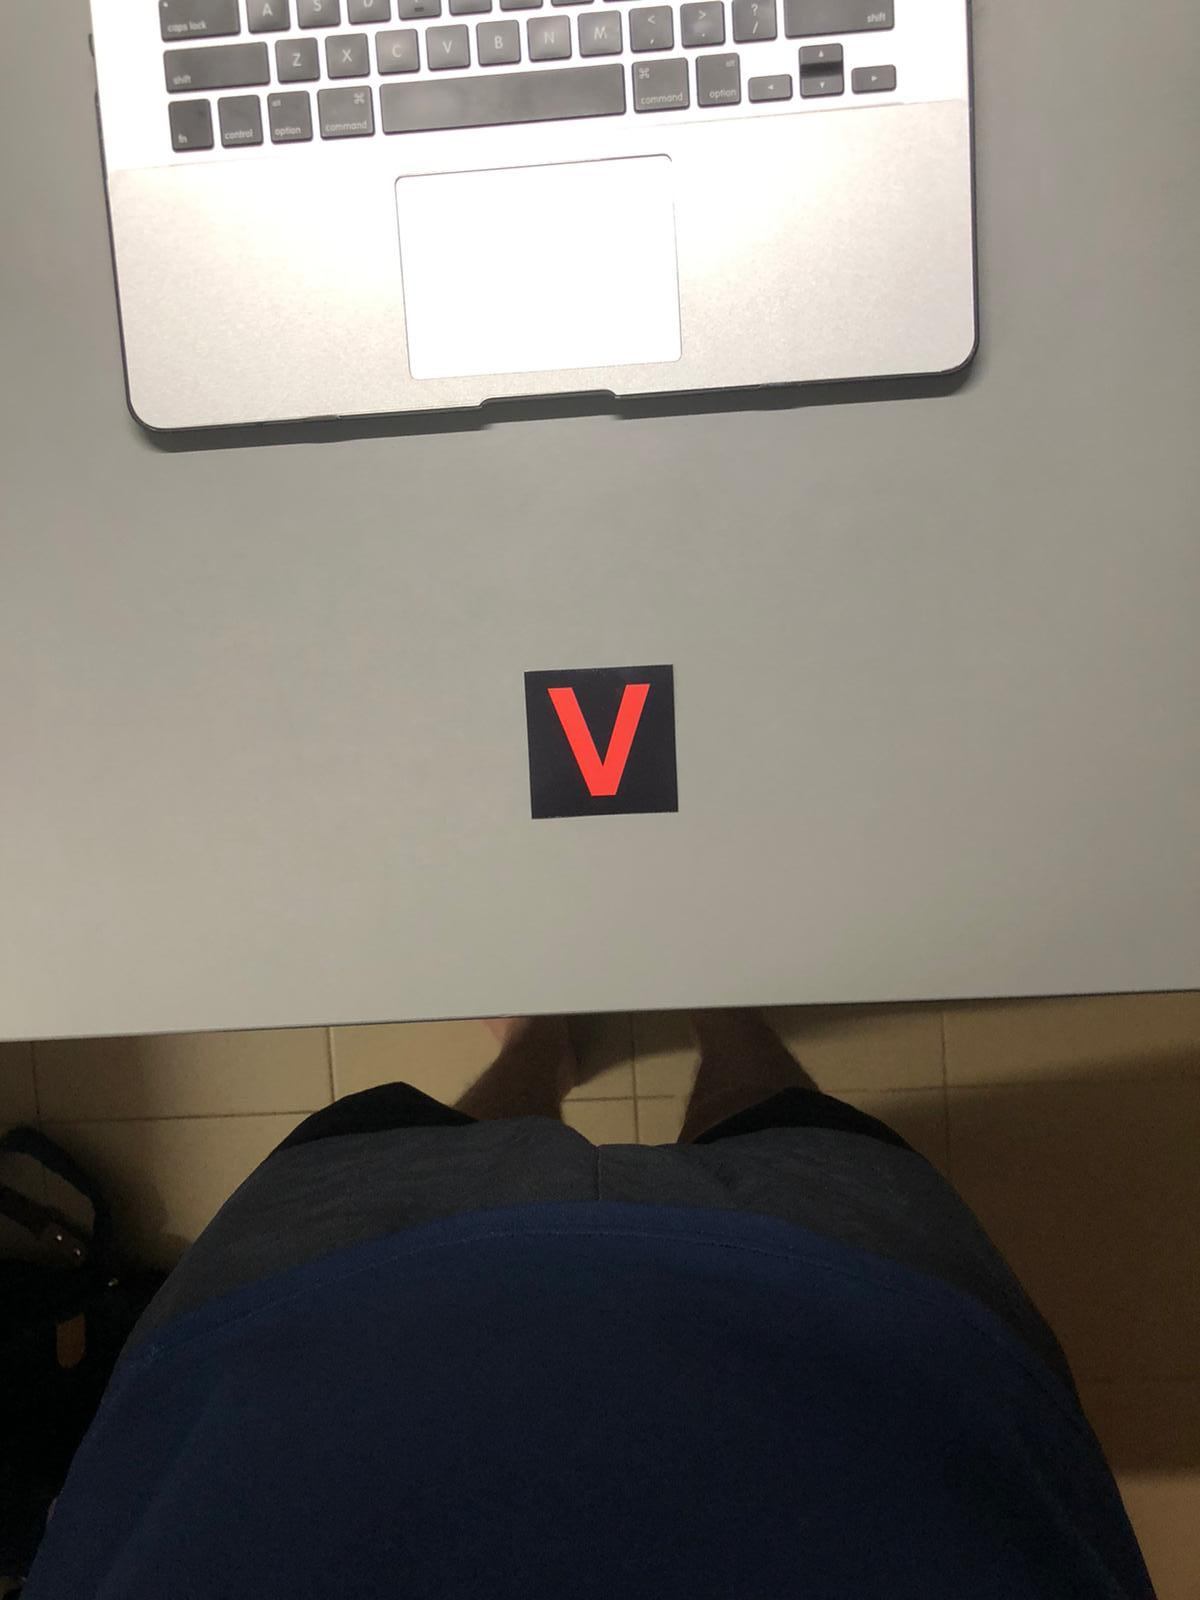V: (532, 664, 677, 813)
